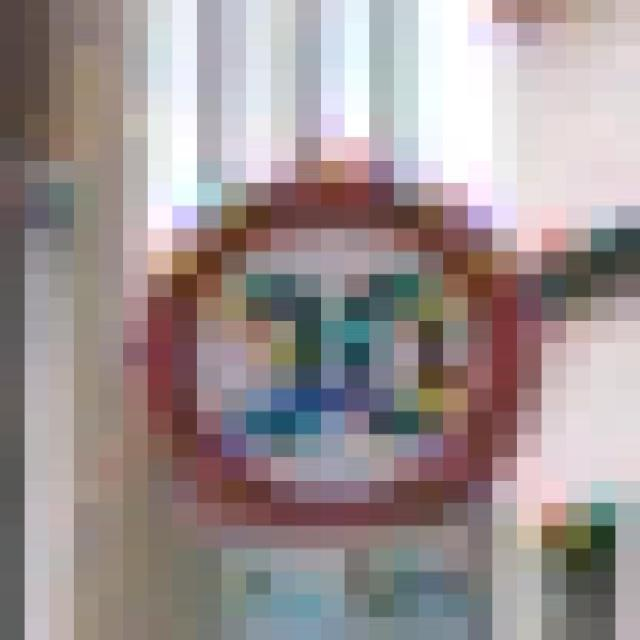Speed Limit 30 KMPh: (74, 114, 591, 572)
